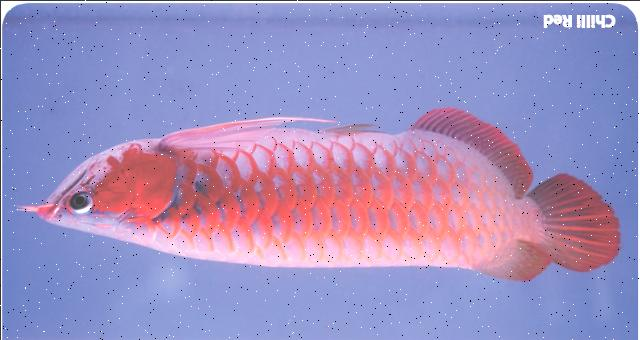Mulut: (18, 136, 116, 248)
Sirip Anal: (401, 92, 537, 206)
Sirip Dada: (139, 102, 347, 160)
Sirip Ekor: (514, 162, 628, 280)
Sirip Perut: (316, 106, 388, 148)
Sirip Punggung: (449, 228, 561, 302)
